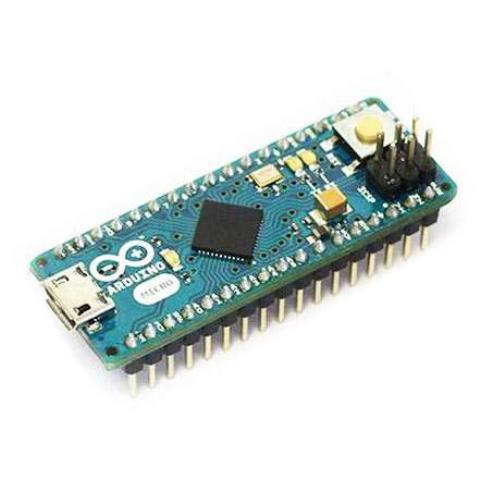Arduino-Micro: (21, 87, 461, 405)
